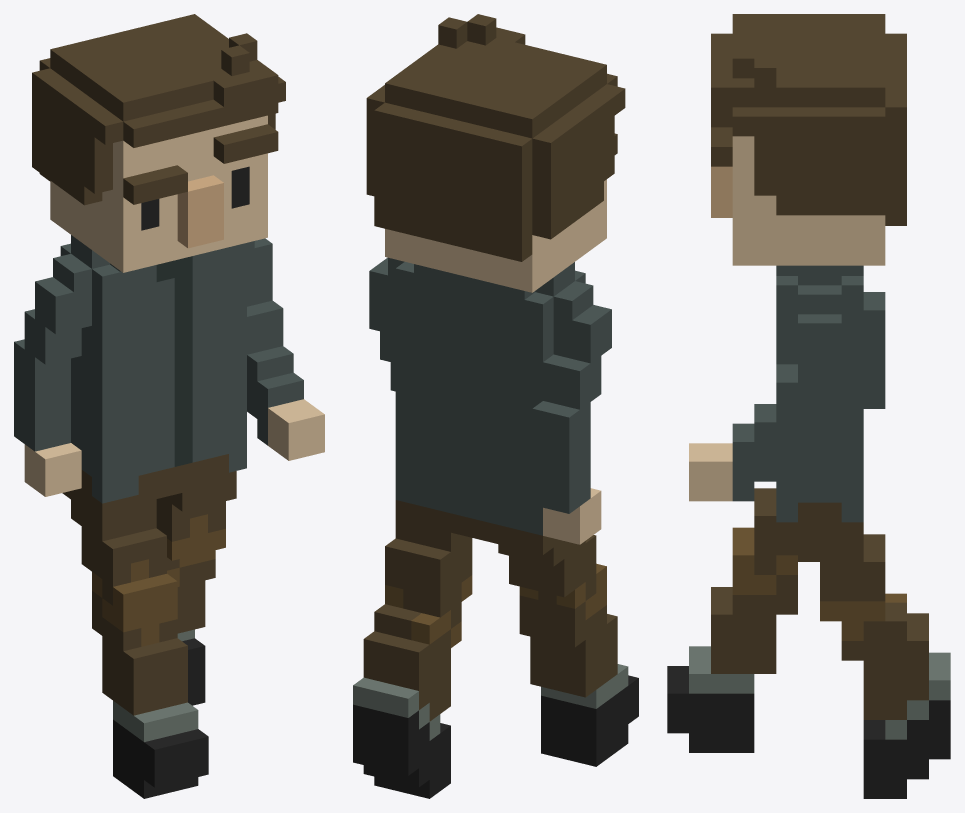
Rendered from WalkAnim1-10.obj.
3 views of the same model, side by side, from view 1: azimuth 30°, elevation 25°; view 2: azimuth 150°, elevation 25°; view 3: azimuth 270°, elevation 25° (orthographic). The views are drawn at different scales.
Parts seen in each view (by area): view 1: WalkAnim1-10; view 2: WalkAnim1-10; view 3: WalkAnim1-10.
Part boxes in pixels (left/top/right/bottom): WalkAnim1-10: left=14, top=14, right=324, bottom=798; WalkAnim1-10: left=353, top=14, right=638, bottom=798; WalkAnim1-10: left=667, top=14, right=950, bottom=798.
Size of the model in its own units: 12 by 37 by 13.
1 material, 1 textured.
